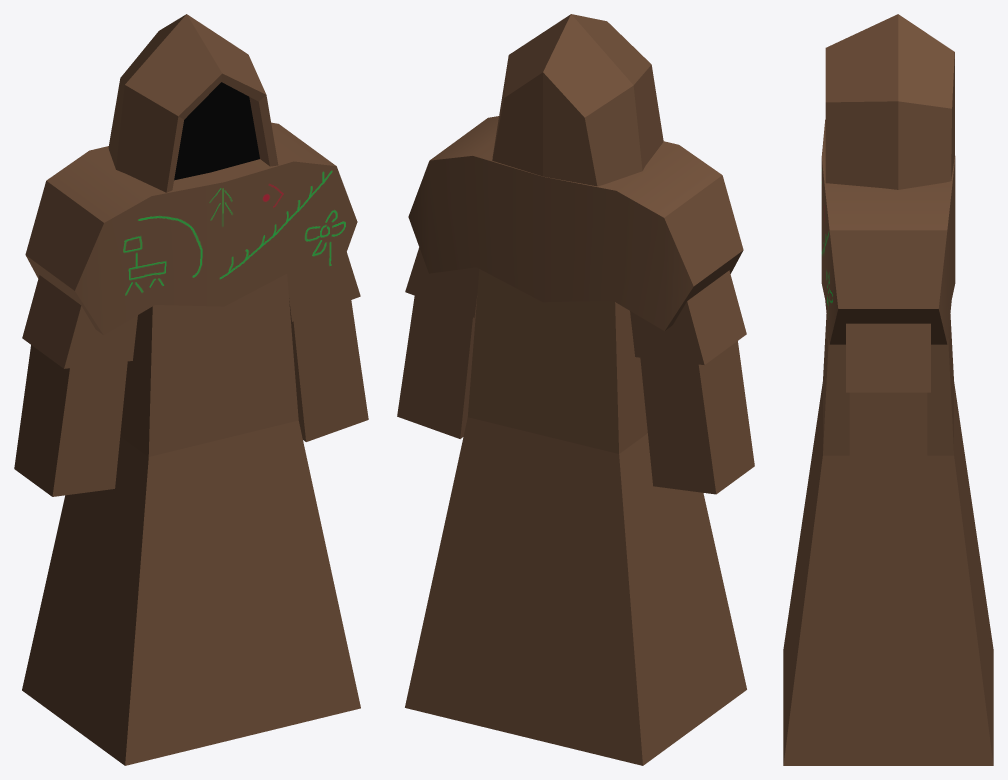
Rendered from Cultist.glb.
The picture shows the model from 3 angles, left to right: view 1: azimuth 30°, elevation 25°; view 2: azimuth 150°, elevation 25°; view 3: azimuth 270°, elevation 25°; orthographic projection.
Parts seen in each view (by area): view 1: Robe, TopCloak, Hood, LowerArm_L, LowerArm_R, UpperArm_L, HoodInside, UpperArm_R; view 2: Robe, TopCloak, Hood, LowerArm_L, LowerArm_R, UpperArm_L, UpperArm_R; view 3: Robe, Hood, TopCloak, LowerArm_R, UpperArm_R.
Boxes of the visible parts, bbox=[...] form: Robe: bbox=[22, 274, 360, 765]; TopCloak: bbox=[25, 122, 357, 334]; Hood: bbox=[108, 14, 278, 192]; LowerArm_L: bbox=[14, 345, 127, 496]; LowerArm_R: bbox=[291, 300, 368, 441]; UpperArm_L: bbox=[22, 275, 137, 368]; HoodInside: bbox=[174, 82, 259, 180]; UpperArm_R: bbox=[287, 252, 360, 321]; Robe: bbox=[405, 269, 746, 765]; TopCloak: bbox=[408, 116, 743, 330]; Hood: bbox=[492, 14, 663, 186]; LowerArm_L: bbox=[640, 341, 754, 494]; LowerArm_R: bbox=[397, 296, 475, 438]; UpperArm_L: bbox=[630, 270, 746, 364]; UpperArm_R: bbox=[405, 247, 479, 317]; Robe: bbox=[783, 314, 993, 765]; Hood: bbox=[825, 14, 954, 189]; TopCloak: bbox=[821, 119, 955, 344]; LowerArm_R: bbox=[849, 392, 927, 526]; UpperArm_R: bbox=[846, 323, 930, 392].
Bounding box in the file's own units: 1.61 × 3.33 × 0.9129.
3 materials, 1 textured.
